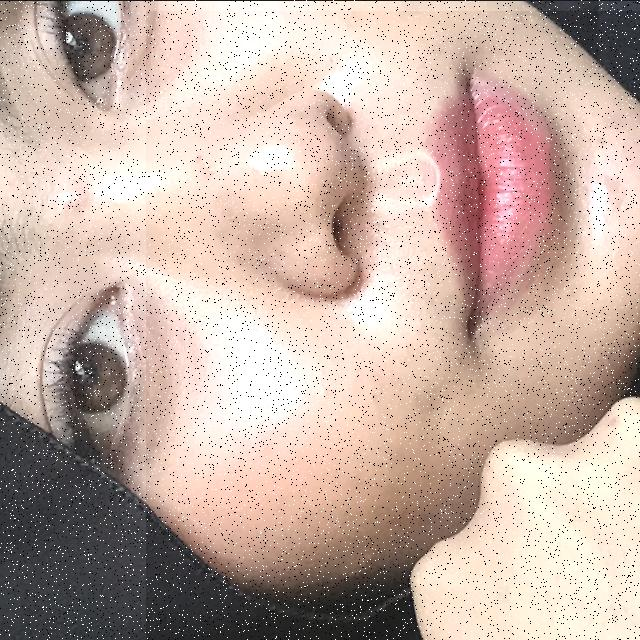telpon: (146, 10, 640, 640)
